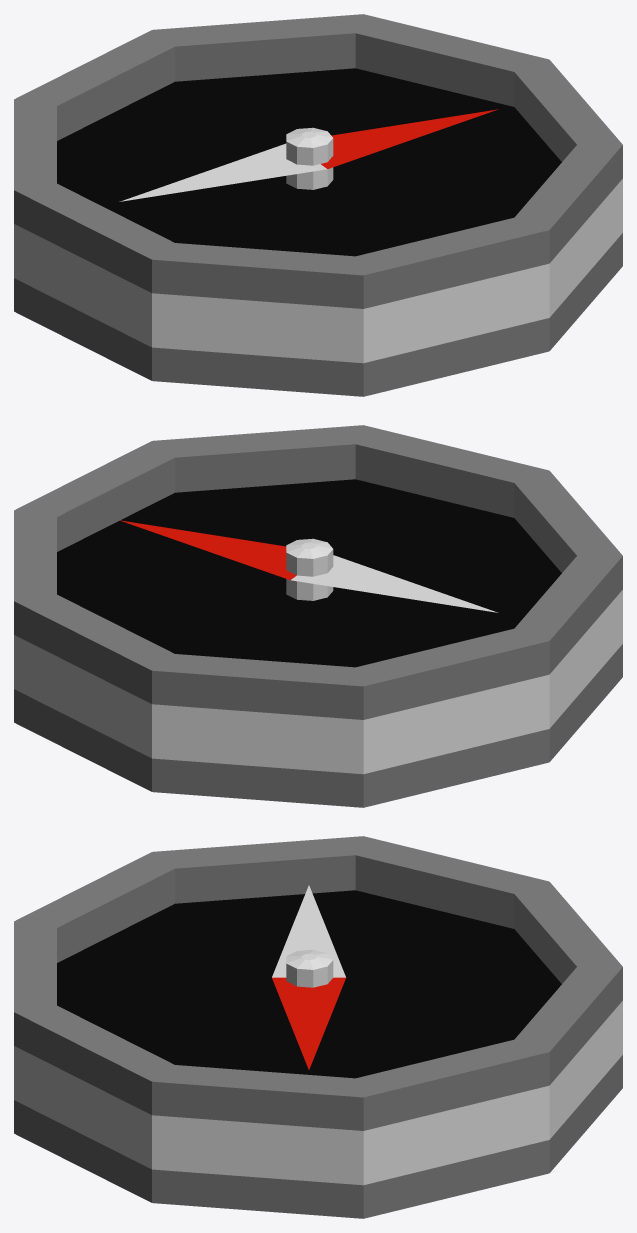
File: compass.fbx
3 renders of one model, top to bottom at view 1: azimuth 30°, elevation 25°; view 2: azimuth 150°, elevation 25°; view 3: azimuth 270°, elevation 25°, orthographic.
Visible parts, largest first — view 1: Cylinder, Plane; view 2: Cylinder, Plane; view 3: Cylinder, Plane.
Part boxes in pixels (x1,y1,x2,y2): Cylinder: (14,14,622,396); Plane: (119,109,498,201); Cylinder: (14,425,622,807); Plane: (120,520,498,612); Cylinder: (14,836,622,1218); Plane: (272,885,346,1069).
Size of the model in its own units: 197 by 46.15 by 194.
